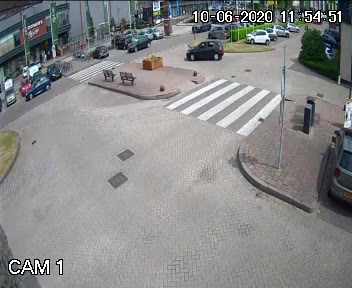car: (183, 36, 227, 64), (22, 78, 50, 97), (122, 36, 150, 52), (188, 20, 212, 34)
